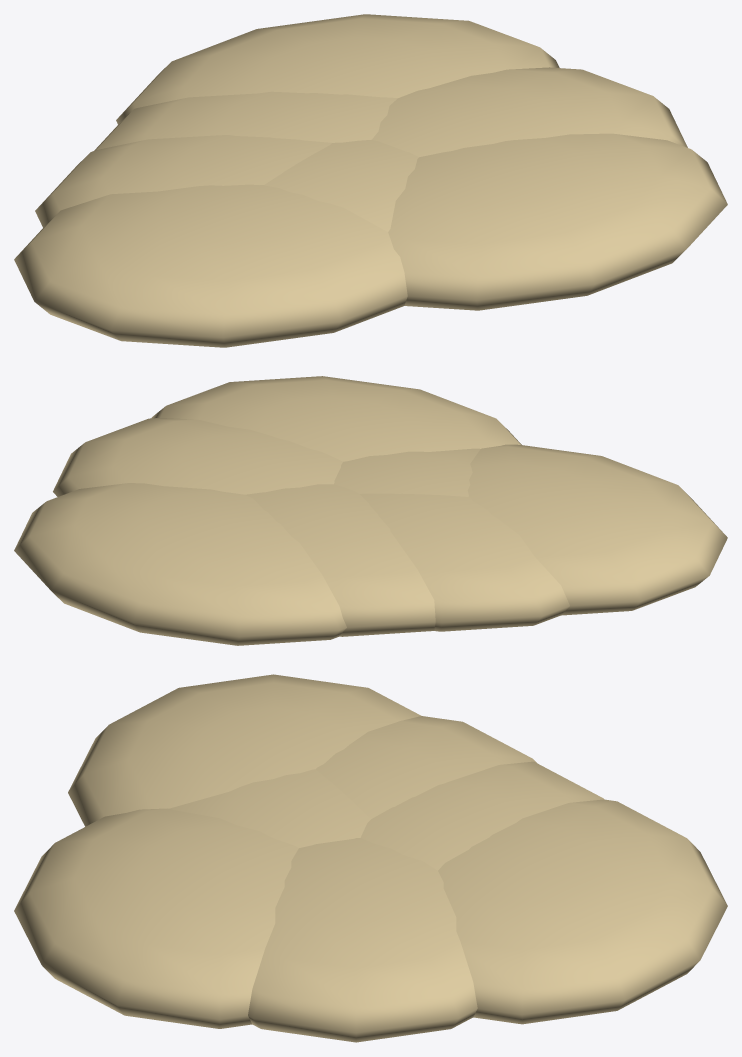
Rendered from reef-sand.glb.
3 renders of one model, top to bottom at view 1: azimuth 30°, elevation 25°; view 2: azimuth 150°, elevation 25°; view 3: azimuth 270°, elevation 25°, orthographic. The views are drawn at different scales.
Parts seen in each view (by area): view 1: reef-sand; view 2: reef-sand; view 3: reef-sand.
Boxes of the visible parts, x1,y1,x2,y2 form: reef-sand: (14,14,727,347); reef-sand: (14,376,727,645); reef-sand: (14,674,727,1042).
Bounding box in the file's own units: 1.12 × 0.14 × 0.9717.
